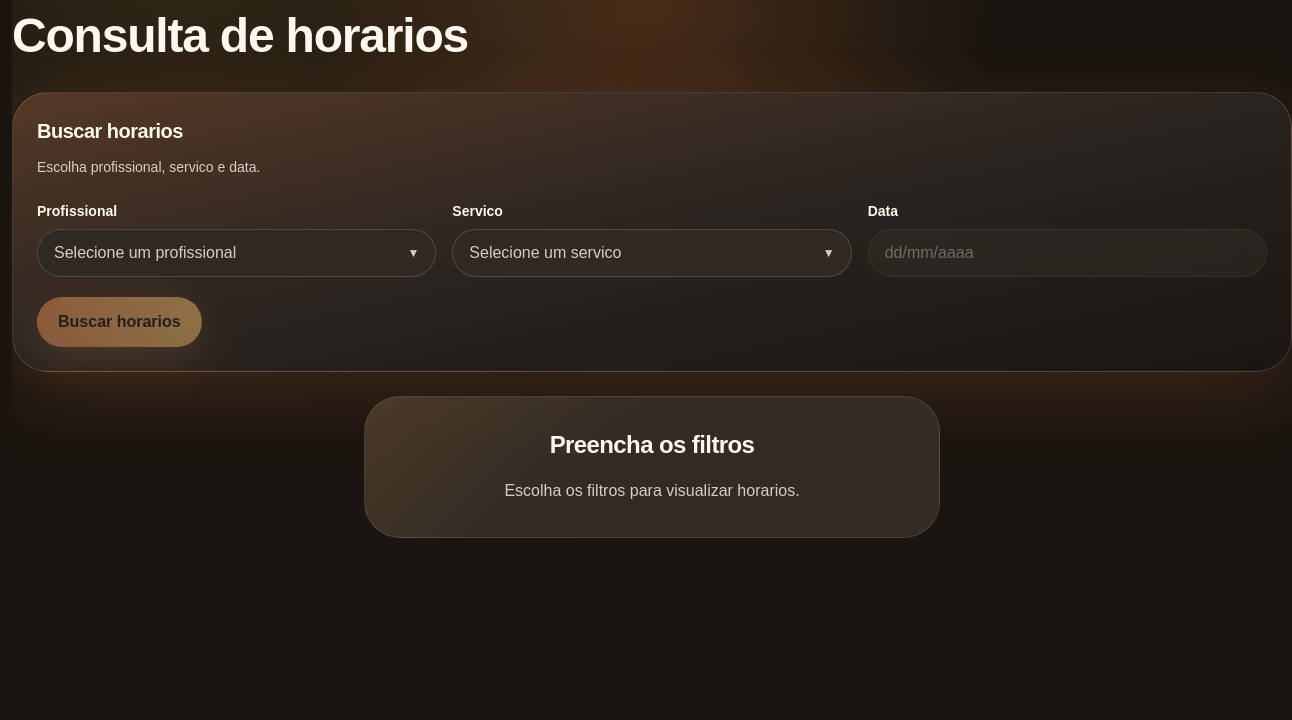
SlotsPage › busca e renderiza slots com CTA de confirmacao desabilitado sem selecao
Click the button "Selecione um profissional ▼" at (237, 253), box [37,229,436,277]
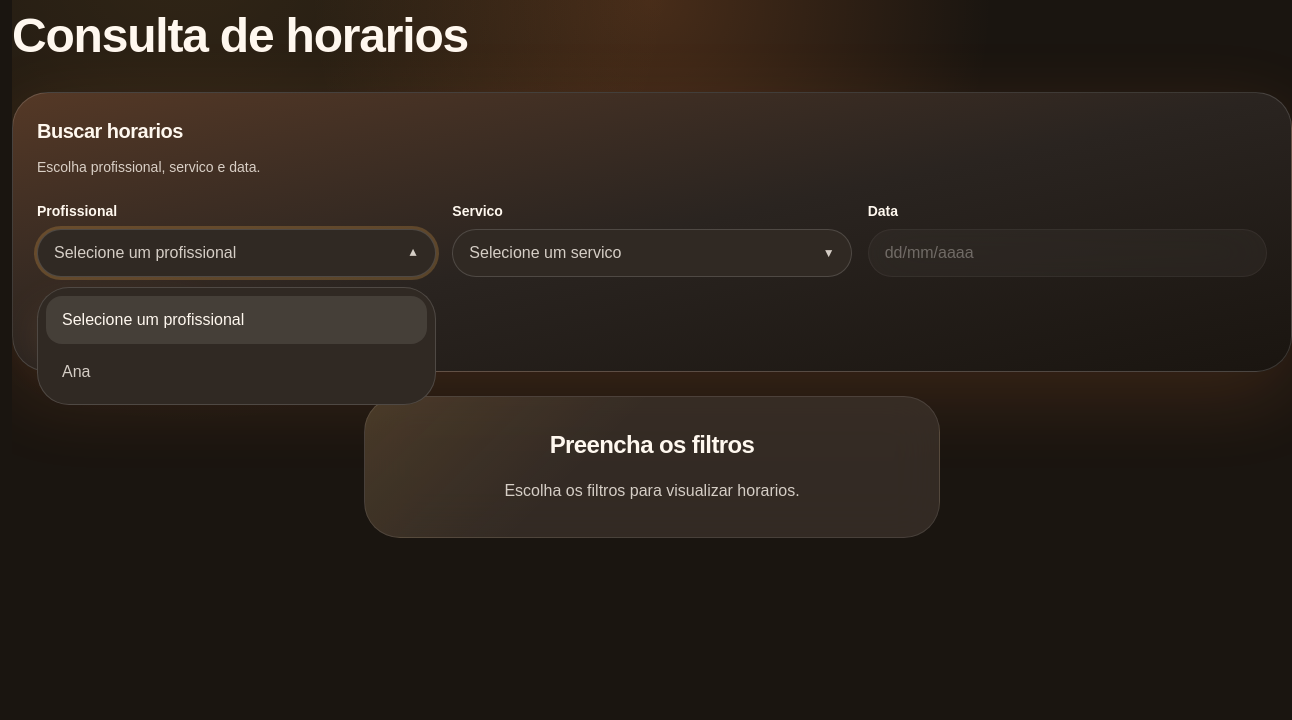
Click the option "Ana" at (76, 372), box [46,348,427,396]
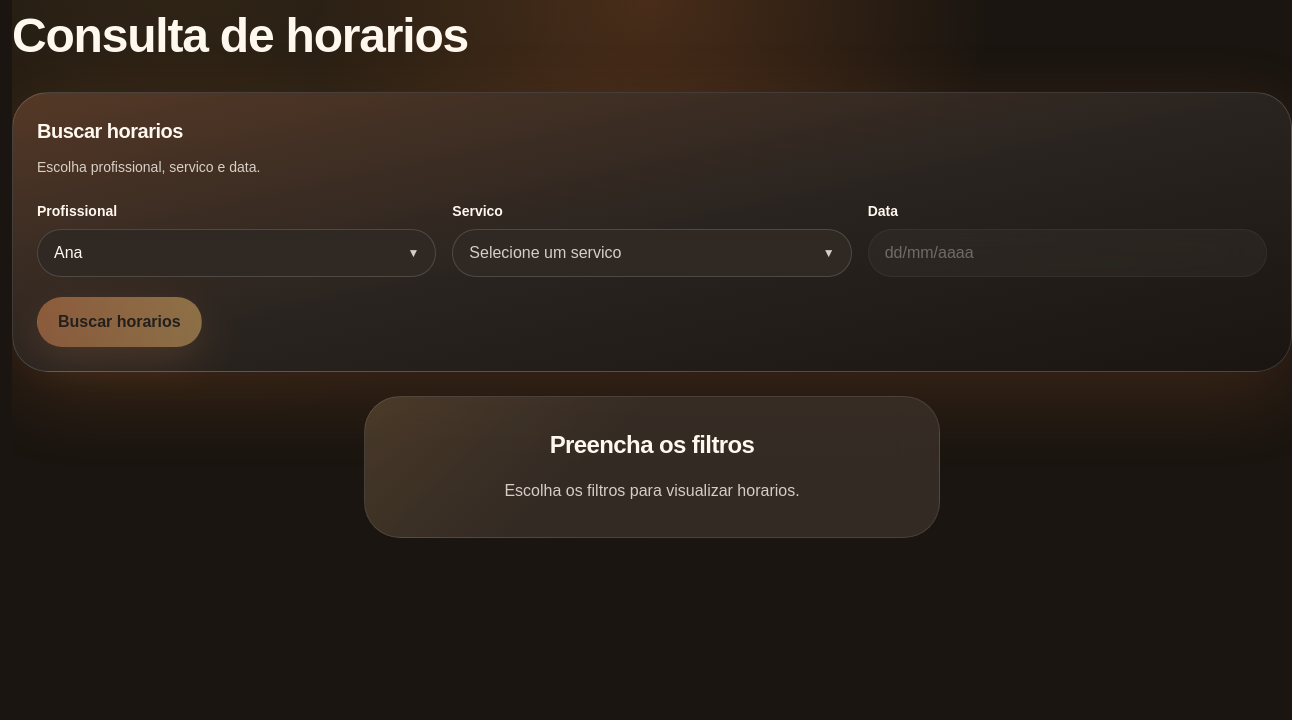
Click the button "Selecione um servico ▼" at (545, 252), box [452,229,852,277]
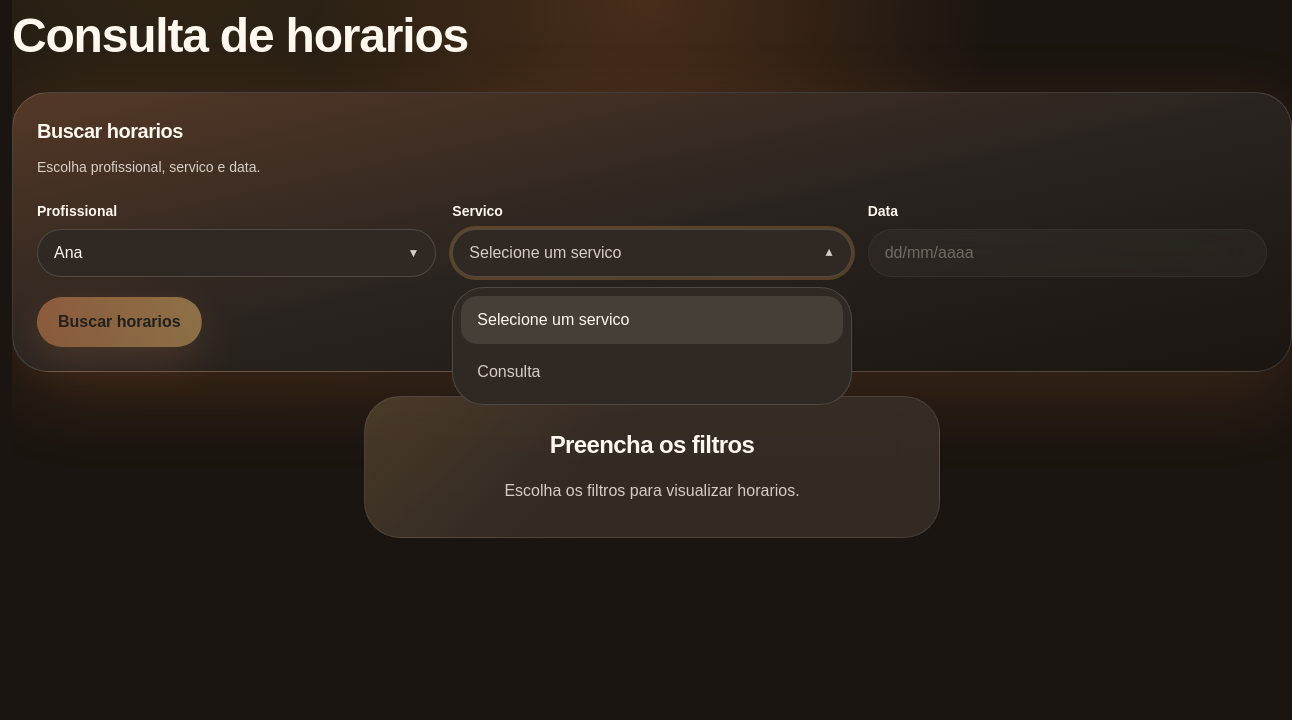
Click the option "Consulta" at (509, 372), box [461,348,843,396]
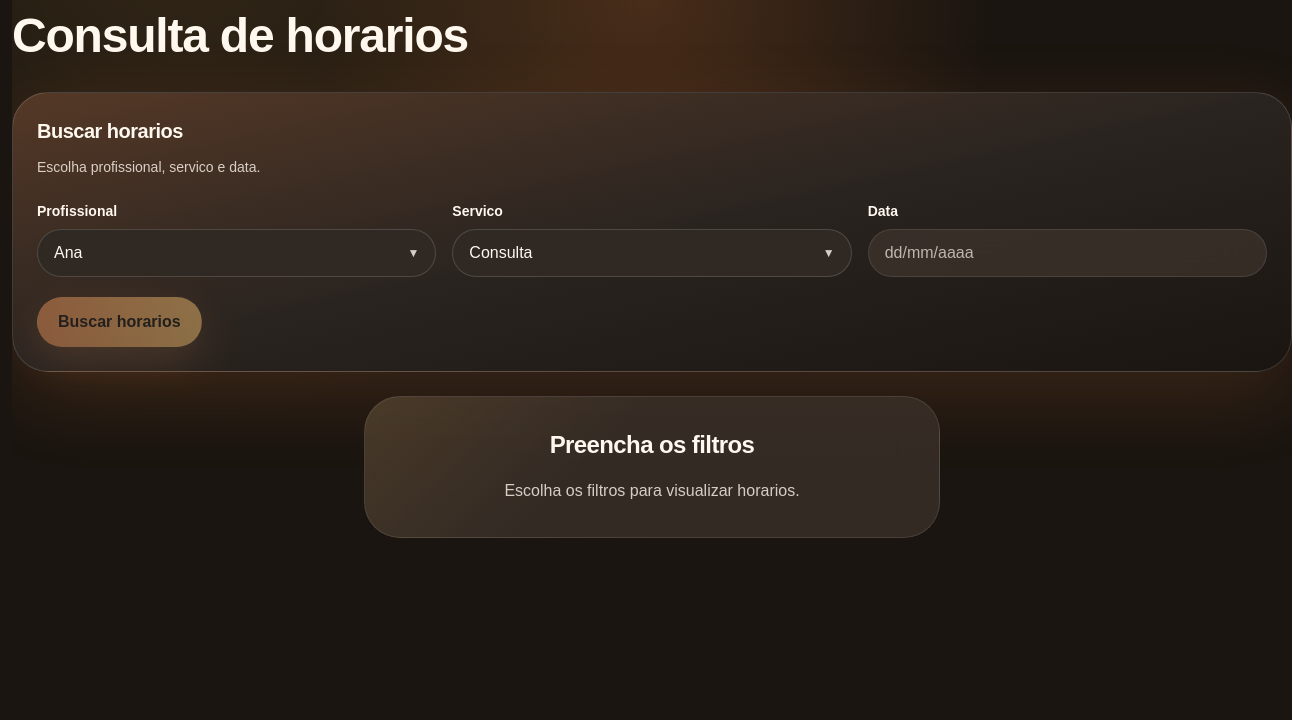
Now the field labelled "Data" is enabled
Type "01/04/2026" into the field labelled "Data" at (1067, 253), box [868,229,1267,277]
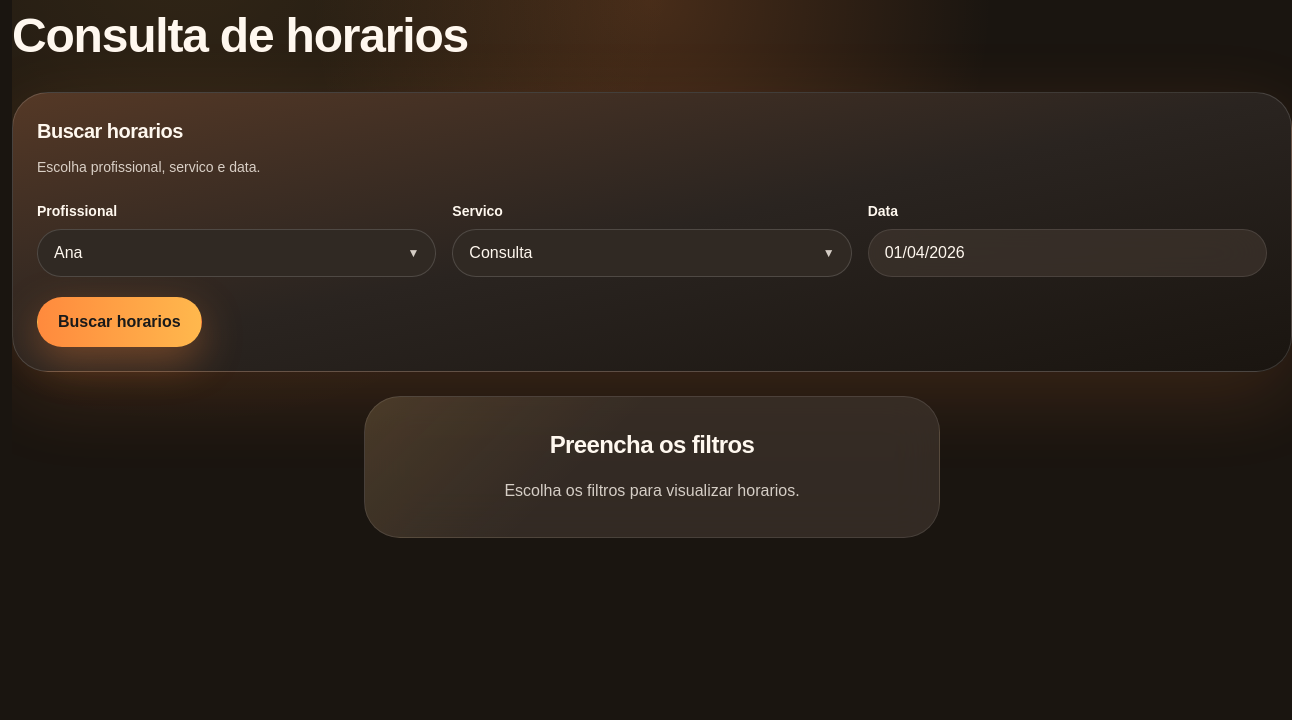
Now the button "Buscar horarios" is enabled
Click the button "Buscar horarios" at (119, 322), box [37,297,202,347]
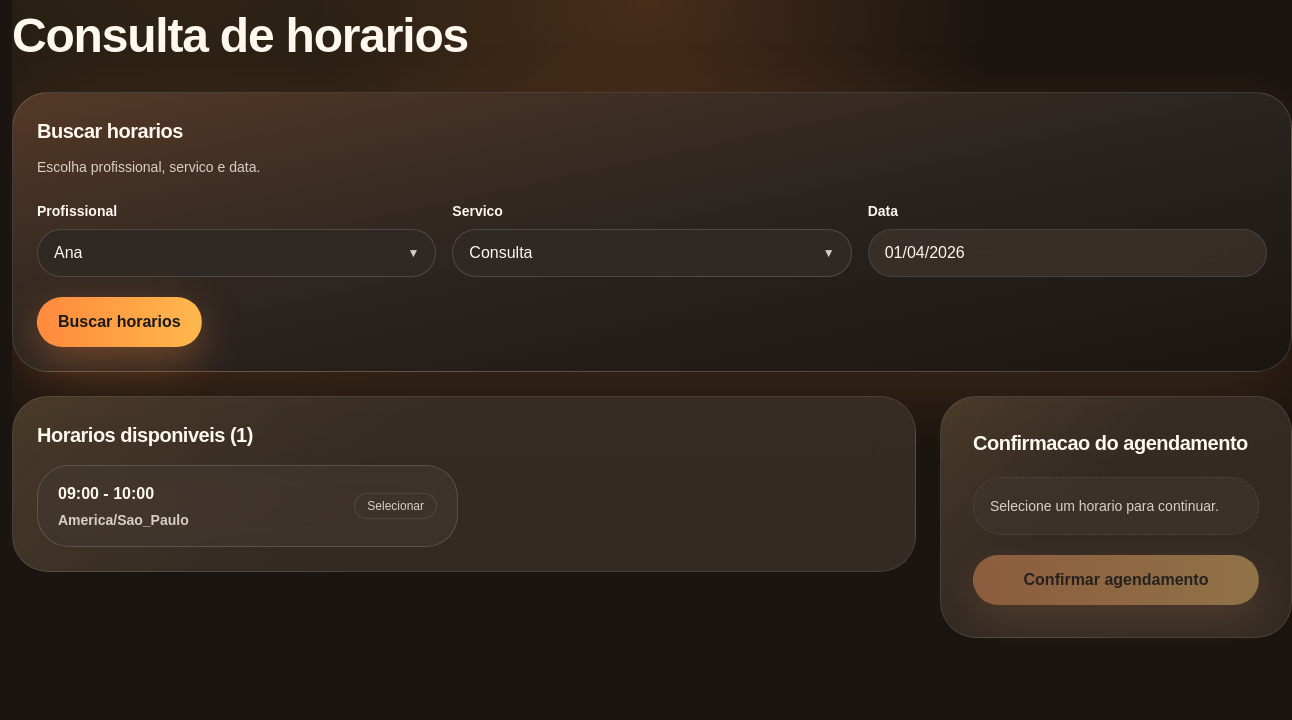
Now the button "09:00 - 10:00 America/Sao_Paulo Selecionar" is shown, box [37,465,458,547]
Now the button "Confirmar agendamento" is disabled, box [973,555,1259,605]
